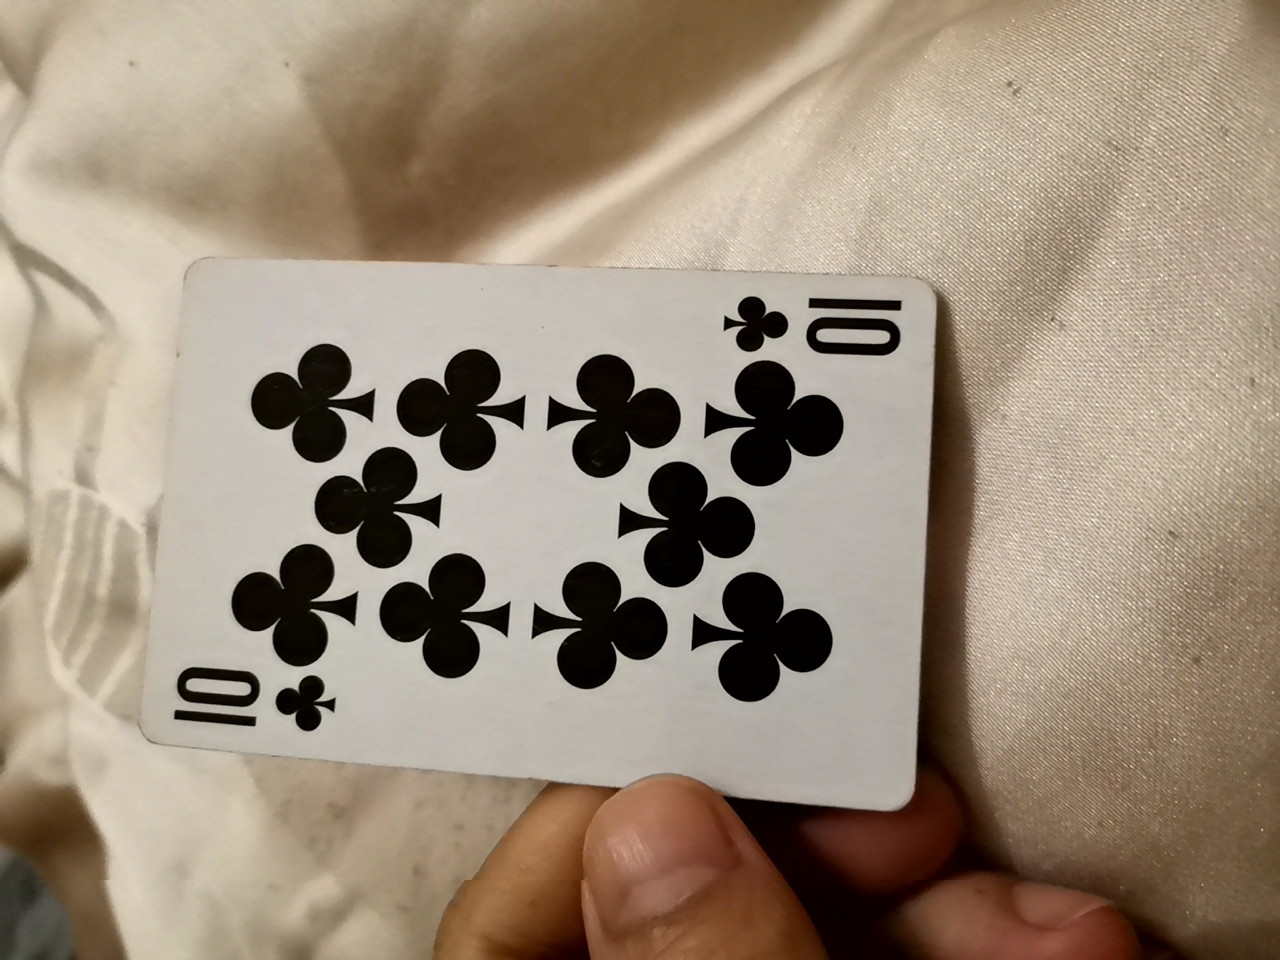mh 10: (149, 259, 931, 808)
